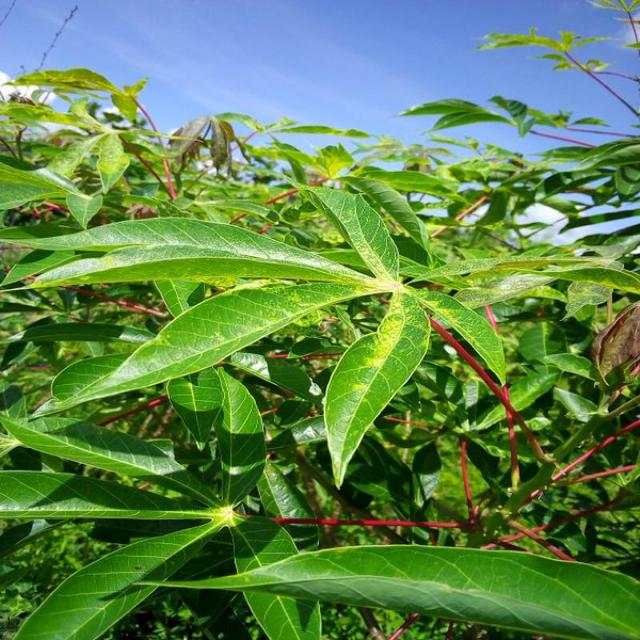cassava leaf: (322, 287, 430, 490)
